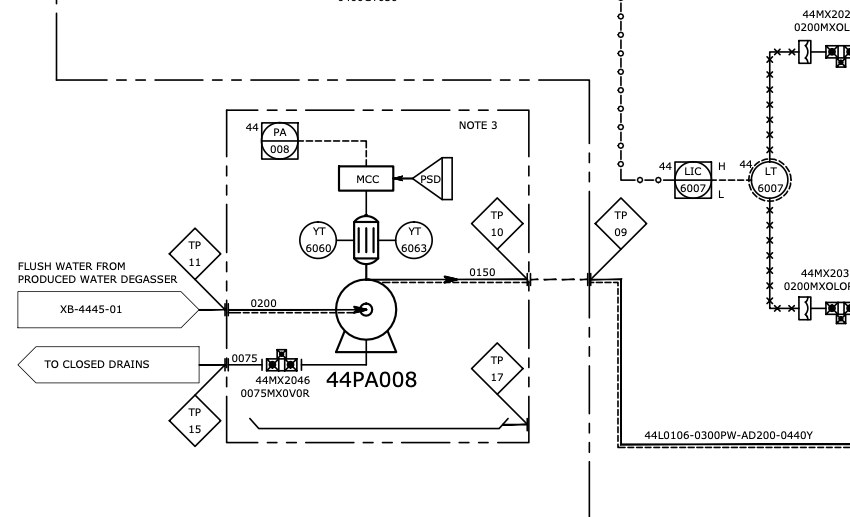Instrument-square: (660, 156, 716, 204), (243, 119, 303, 162)
